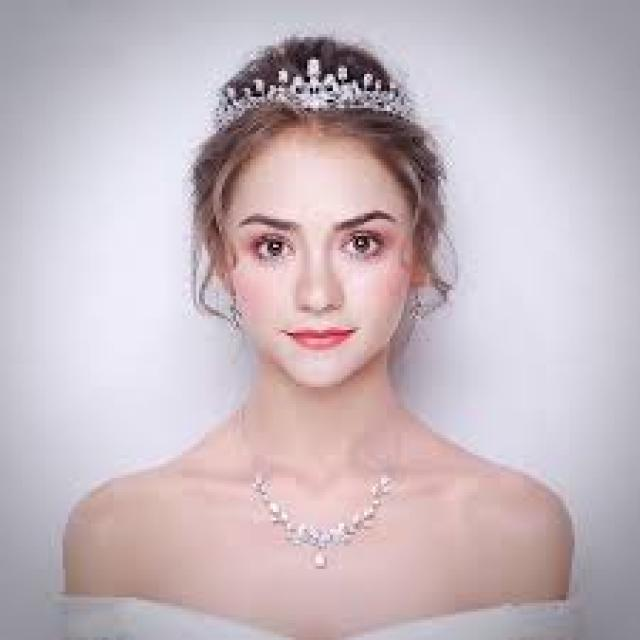Earring: (402, 273, 464, 342), (224, 296, 248, 336)
